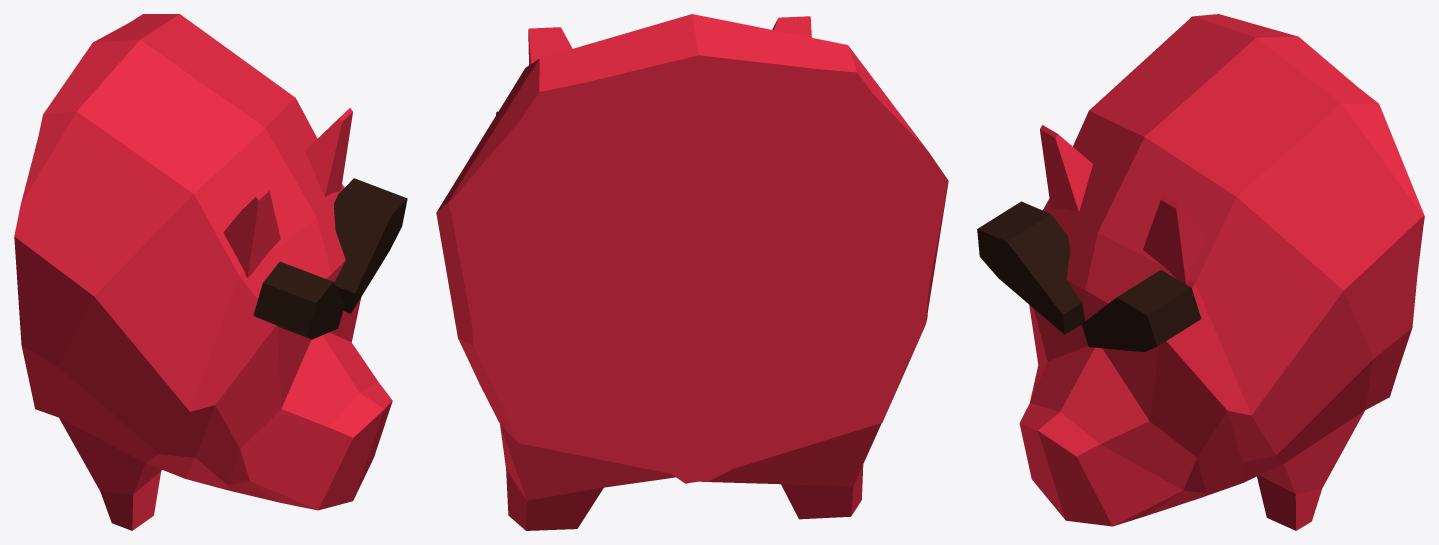
Rendered from oatsHead.fbx.
3 views of the same model, side by side, from view 1: azimuth 30°, elevation 25°; view 2: azimuth 150°, elevation 25°; view 3: azimuth 270°, elevation 25° (orthographic). The views are drawn at different scales.
Parts seen in each view (by area): view 1: Cube.016, Cube.004, Cube.017; view 2: Cube.016, Cube.017; view 3: Cube.016, Cube.004, Cube.017.
Boxes of the visible parts, box(x1,y1,x2,y2) form: Cube.016: box(14, 14, 392, 530); Cube.004: box(253, 178, 407, 339); Cube.017: box(223, 108, 352, 277); Cube.016: box(436, 14, 948, 530); Cube.017: box(528, 16, 811, 64); Cube.016: box(1019, 14, 1424, 530); Cube.004: box(977, 201, 1201, 352); Cube.017: box(1040, 125, 1207, 284).
Bounding box in the file's own units: 78.05 × 83.95 × 78.8.
